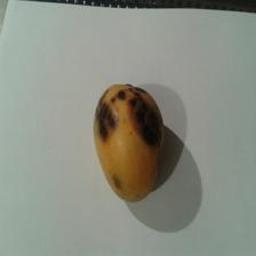Mango Rotten: (86, 75, 168, 203)
